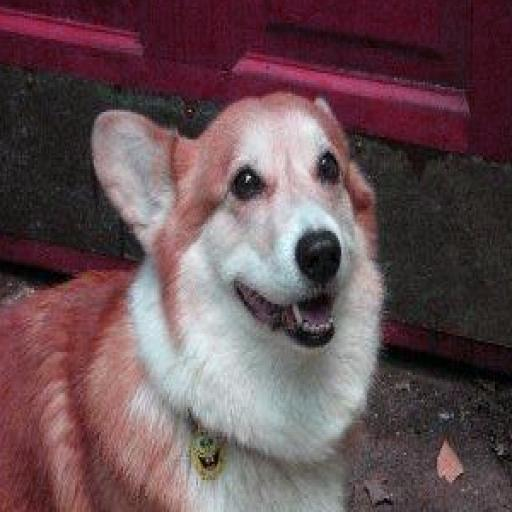dog_face: (98, 97, 394, 392)
